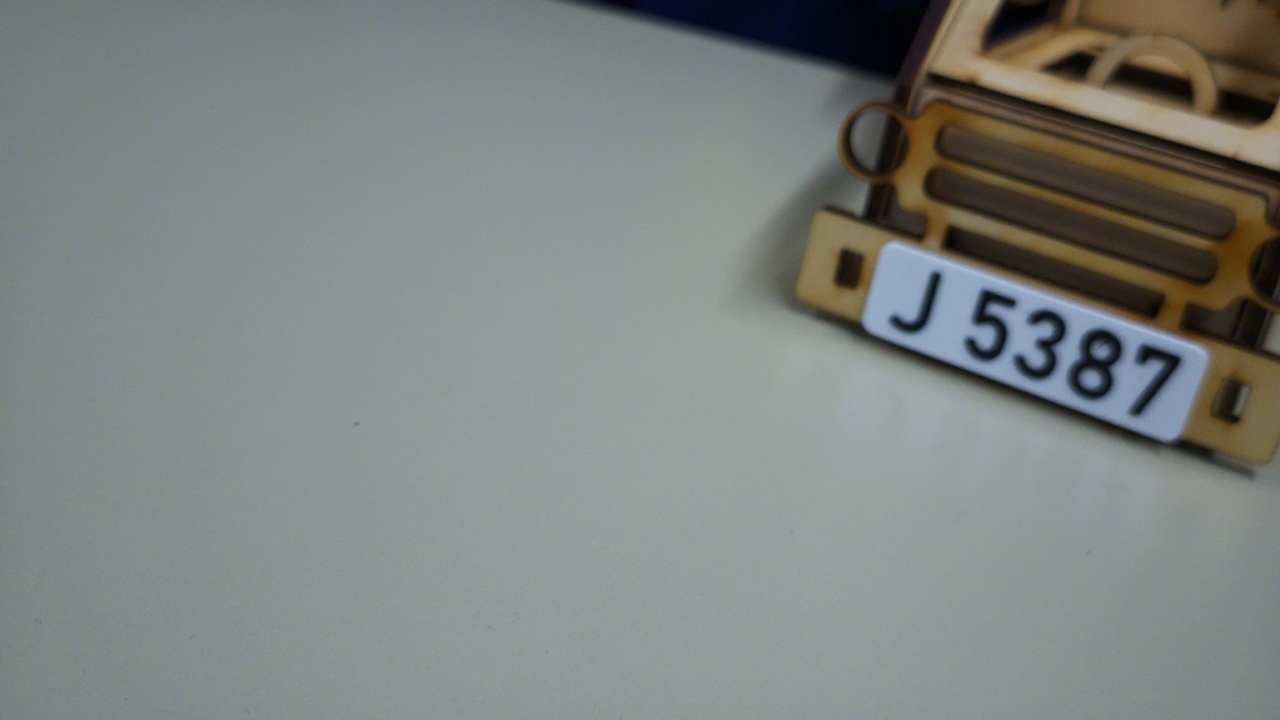license_plate: (857, 237, 1212, 447)
